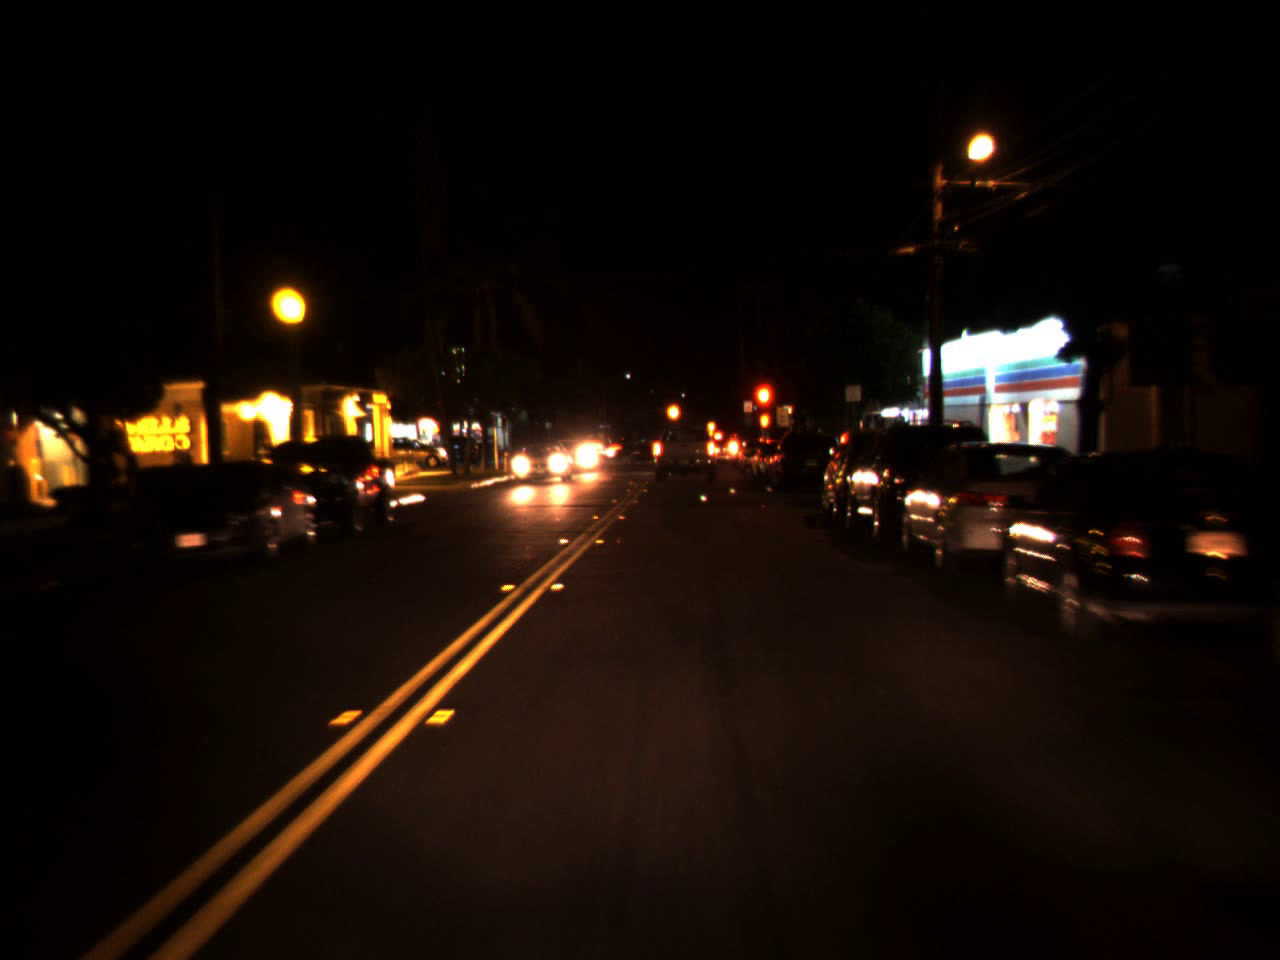stop: (749, 378, 776, 437)
warning: (663, 391, 682, 431), (706, 413, 716, 433)
